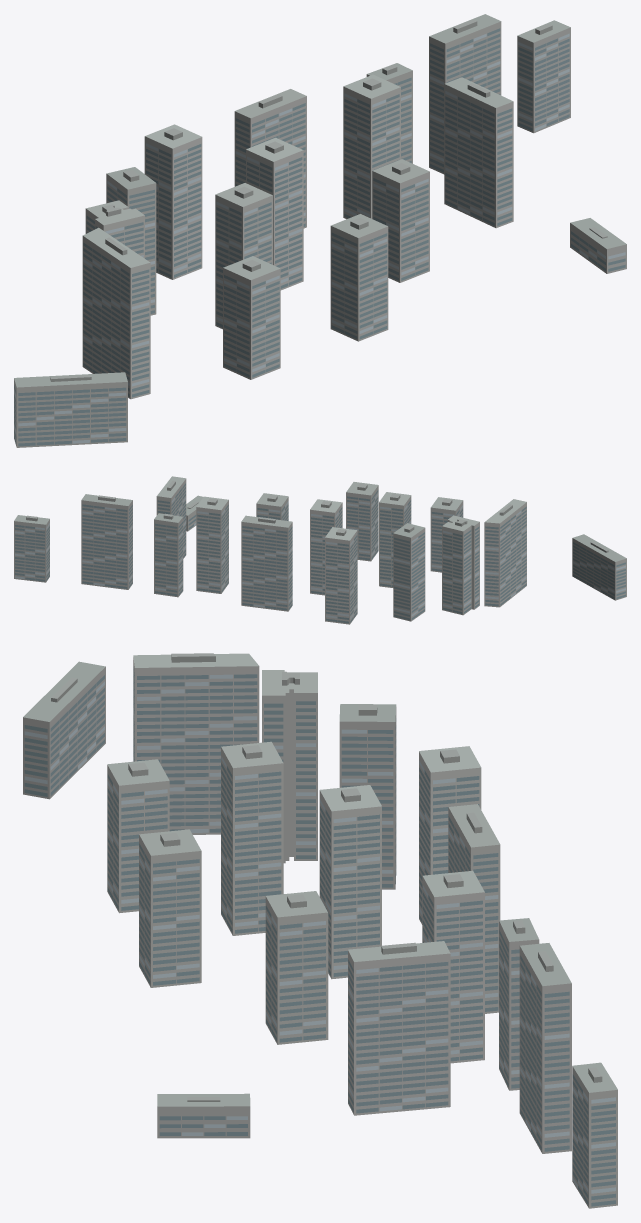
The model's file is apt-a13309404.glb.
3 renders of one model, top to bottom at view 1: azimuth 30°, elevation 25°; view 2: azimuth 150°, elevation 25°; view 3: azimuth 270°, elevation 25°, orthographic. The views are drawn at different scales.
Visible parts, largest first — view 1: apt-a13309404; view 2: apt-a13309404; view 3: apt-a13309404.
Boxes of the visible parts, box(x1,y1,x2,y2) form: apt-a13309404: box(14, 14, 626, 447); apt-a13309404: box(14, 476, 626, 624); apt-a13309404: box(23, 653, 617, 1208).
Size of the model in its own units: 424 by 73 by 227.
